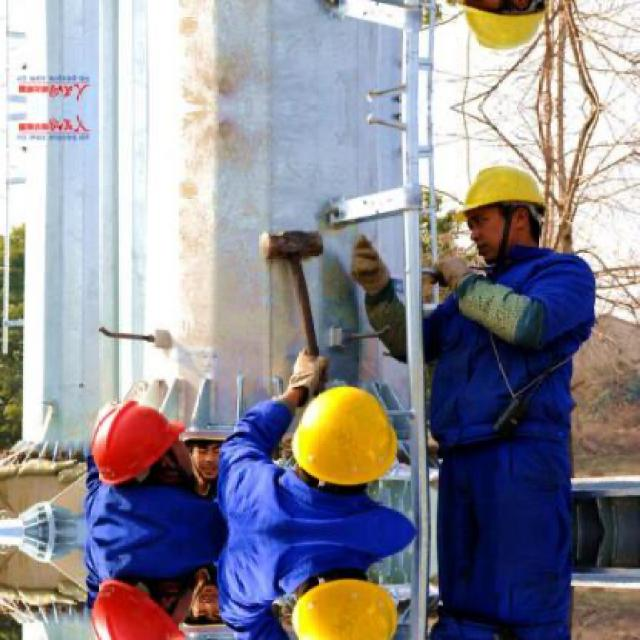helmet: (285, 381, 406, 500), (448, 149, 552, 270), (83, 396, 199, 495), (284, 564, 408, 638), (83, 569, 200, 639), (446, 0, 552, 68)
